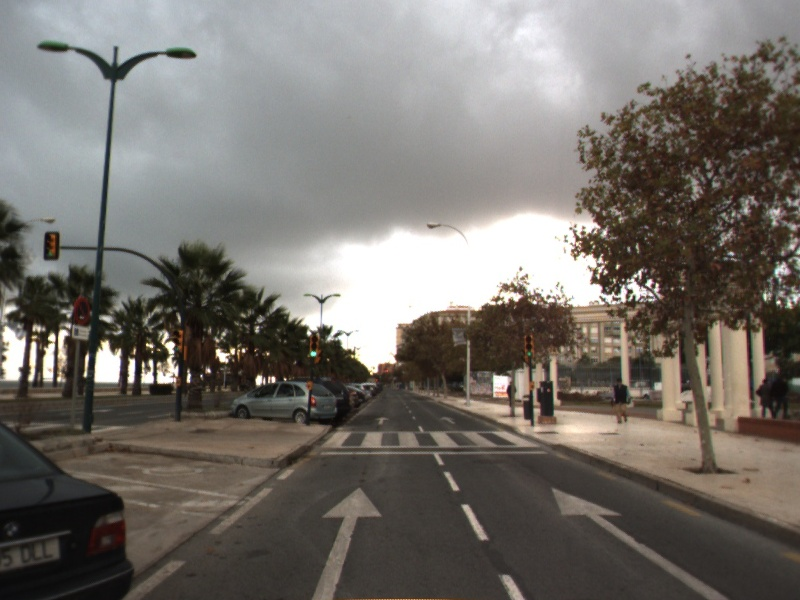STRAIGHT: (549, 485, 728, 600), (312, 484, 385, 600), (374, 415, 391, 427), (438, 415, 457, 425)
